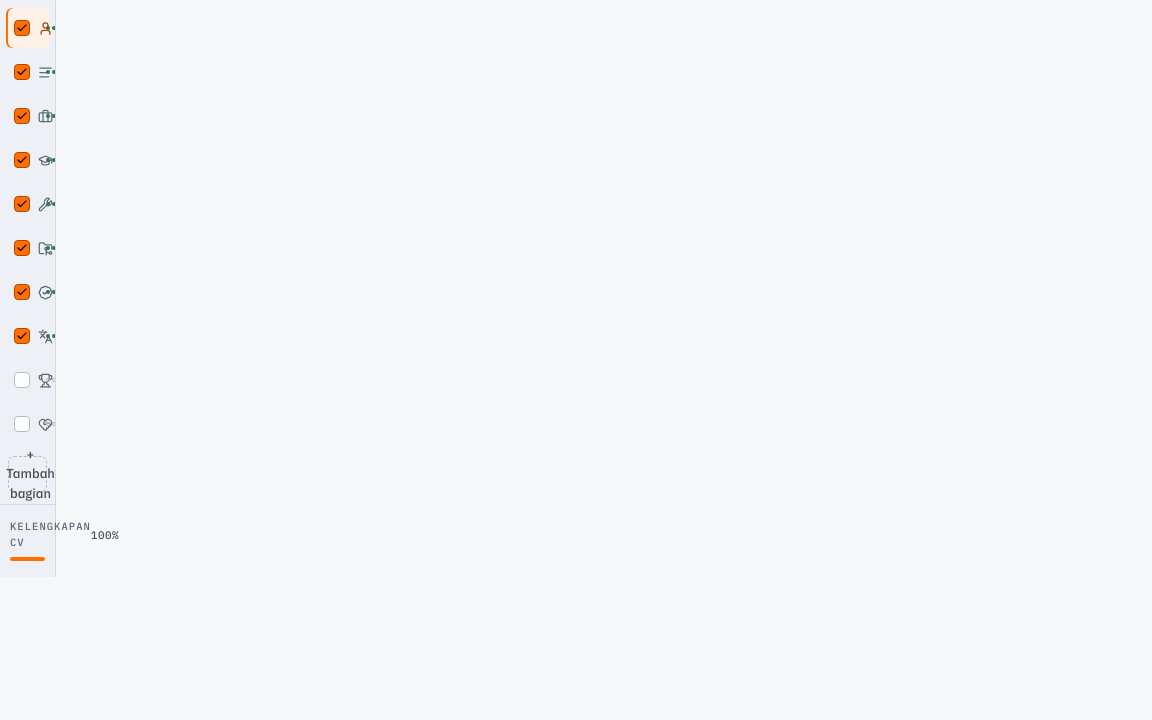
Rail — katalog bagian baru › semua jenis sudah ada → pesan katalog kosong
The width and height of the screenshot is (1152, 720).
Step 1. Click the button "+ Tambah bagian" → (28, 474), box [8,456,47,492]
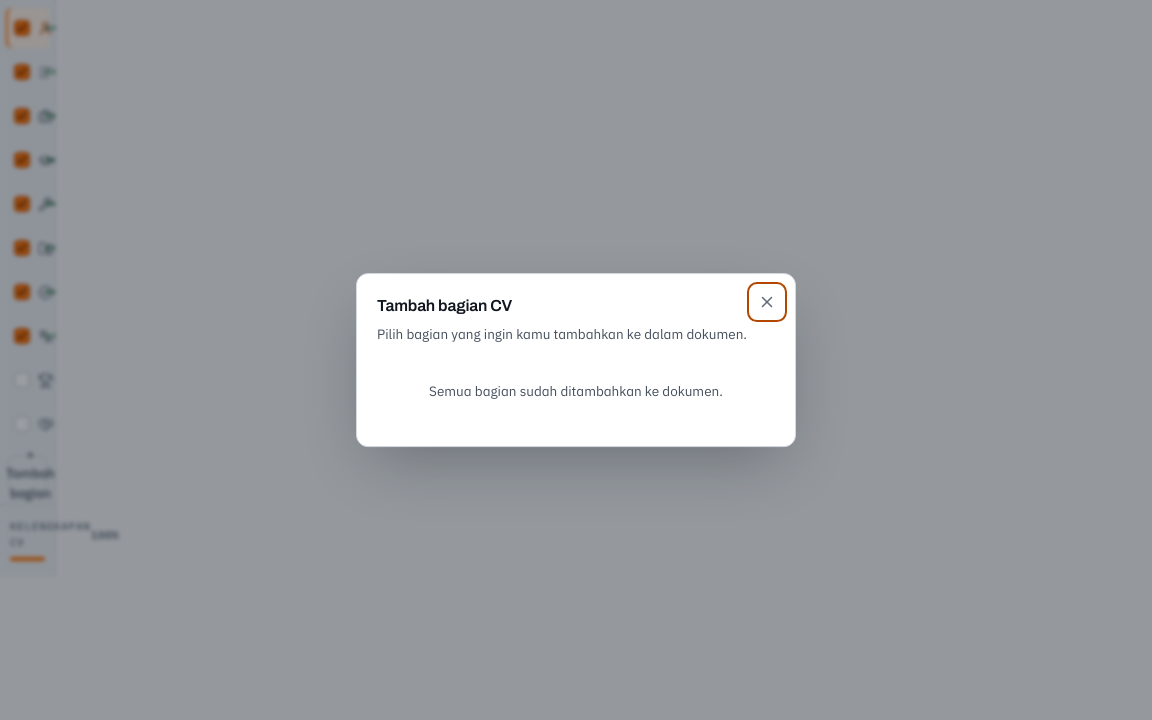
Expected: the text "Semua bagian sudah ditambahkan ke dokumen." is shown, [429,382,723,400]
